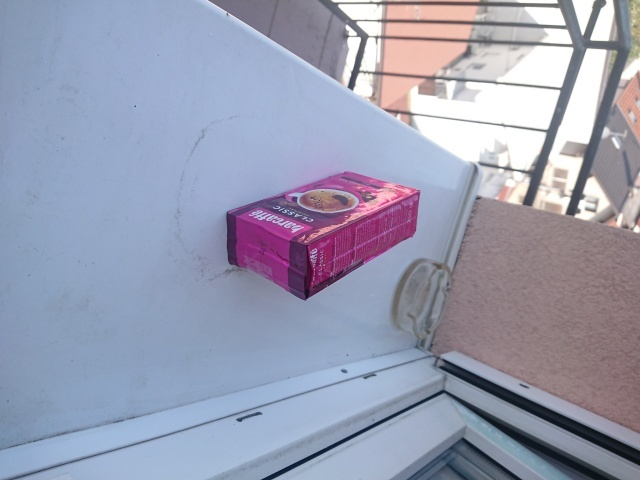Barcaffe Classic Original 225g: (225, 170, 422, 302)
